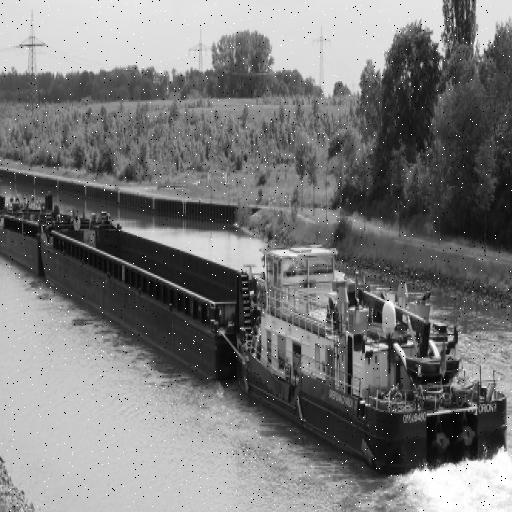tugboat: (234, 238, 512, 487)
